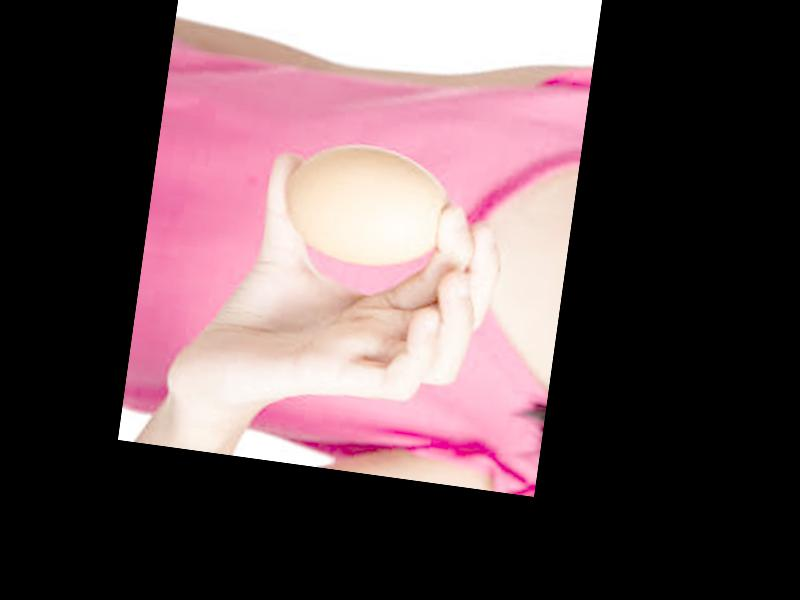Eggs: (279, 137, 459, 275)
